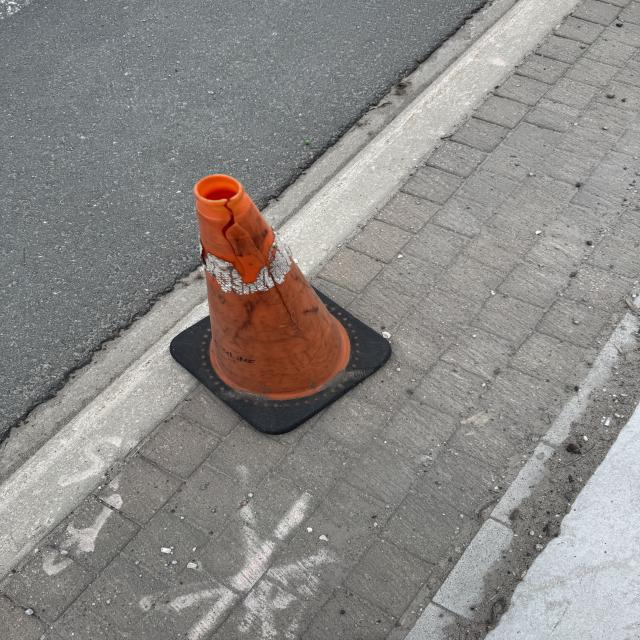Traffic Cone: (163, 173, 392, 437)
